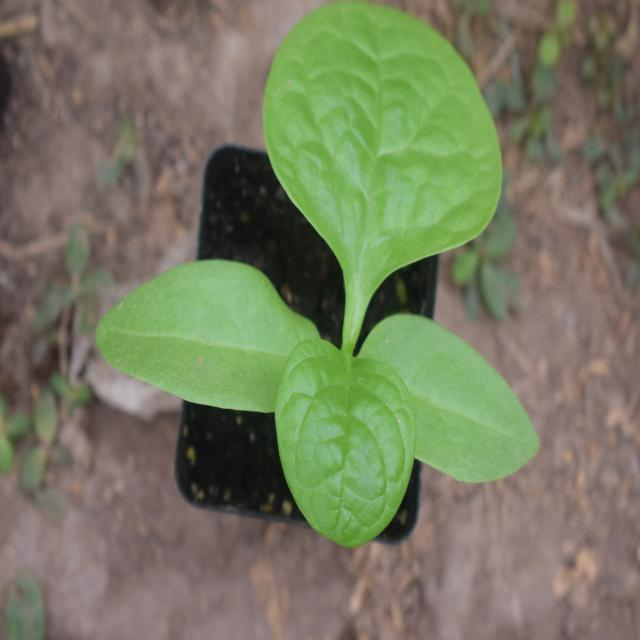Ceylon spinach: (133, 35, 527, 515)
